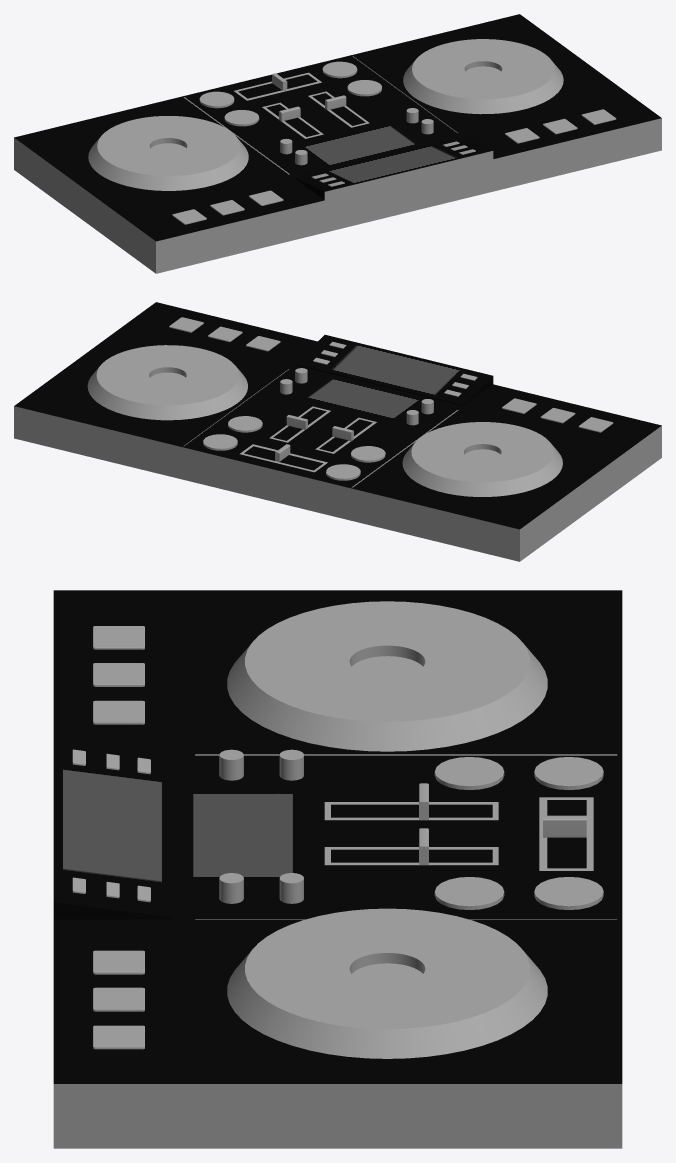
Rendered from Turntables.fbx.
The picture shows the model from 3 angles, top to bottom: view 1: azimuth 30°, elevation 25°; view 2: azimuth 150°, elevation 25°; view 3: azimuth 270°, elevation 25°; orthographic projection. The views are drawn at different scales.
Parts seen in each view (by area): view 1: polySurface15, polySurface14, surface (×2), polySurface1 (×2), pCylinder8, pCylinder7, pCylinder10, pCylinder9, Mid_Slider_Base; view 2: polySurface15, polySurface14, surface (×2), polySurface1 (×2), pCylinder8, pCylinder7, pCylinder9, pCylinder10, Mid_Slider_Base; view 3: polySurface15, surface (×2), polySurface14, polySurface1 (×2), pCylinder7, pCylinder8, pCylinder10, pCylinder9, Mid_Slider_Base, Left_Slider_Base, Right_Slider_Base, pCube5 (+6 smaller).
Boxes of the visible parts, <box> form: polySurface15: <box>14,14,661,241</box>; polySurface14: <box>14,118,661,273</box>; surface (×2): <box>88,41,563,190</box>; polySurface1 (×2): <box>97,39,554,175</box>; pCylinder8: <box>199,91,234,108</box>; pCylinder7: <box>322,61,357,78</box>; pCylinder10: <box>224,110,259,126</box>; pCylinder9: <box>347,80,381,96</box>; Mid_Slider_Base: <box>234,72,321,100</box>; polySurface15: <box>14,302,661,529</box>; polySurface14: <box>14,406,661,561</box>; surface (×2): <box>87,347,562,496</box>; polySurface1 (×2): <box>96,345,553,482</box>; pCylinder8: <box>326,464,360,480</box>; pCylinder7: <box>203,434,237,450</box>; pCylinder9: <box>228,416,262,432</box>; pCylinder10: <box>351,446,385,462</box>; Mid_Slider_Base: <box>240,444,327,472</box>; polySurface15: <box>53,590,622,1083</box>; surface (×2): <box>227,605,547,1058</box>; polySurface14: <box>53,1084,622,1148</box>; polySurface1 (×2): <box>245,601,529,1029</box>; pCylinder7: <box>534,877,603,909</box>; pCylinder8: <box>534,757,603,789</box>; pCylinder10: <box>434,757,504,789</box>; pCylinder9: <box>434,877,504,909</box>; Mid_Slider_Base: <box>539,797,593,870</box>; Left_Slider_Base: <box>324,847,498,865</box>; Right_Slider_Base: <box>324,802,498,820</box>; pCube5: <box>93,950,144,974</box>.
Bounding box in the file's own units: 42.94 × 3.53 × 20.9.
Materials: 2 (1 with a texture image).
